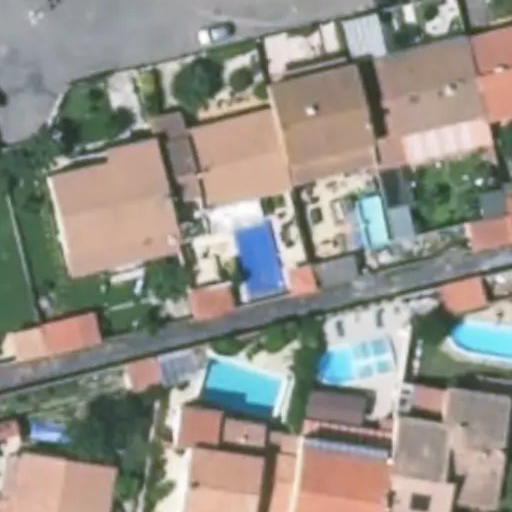pool: (234, 216, 277, 267)
